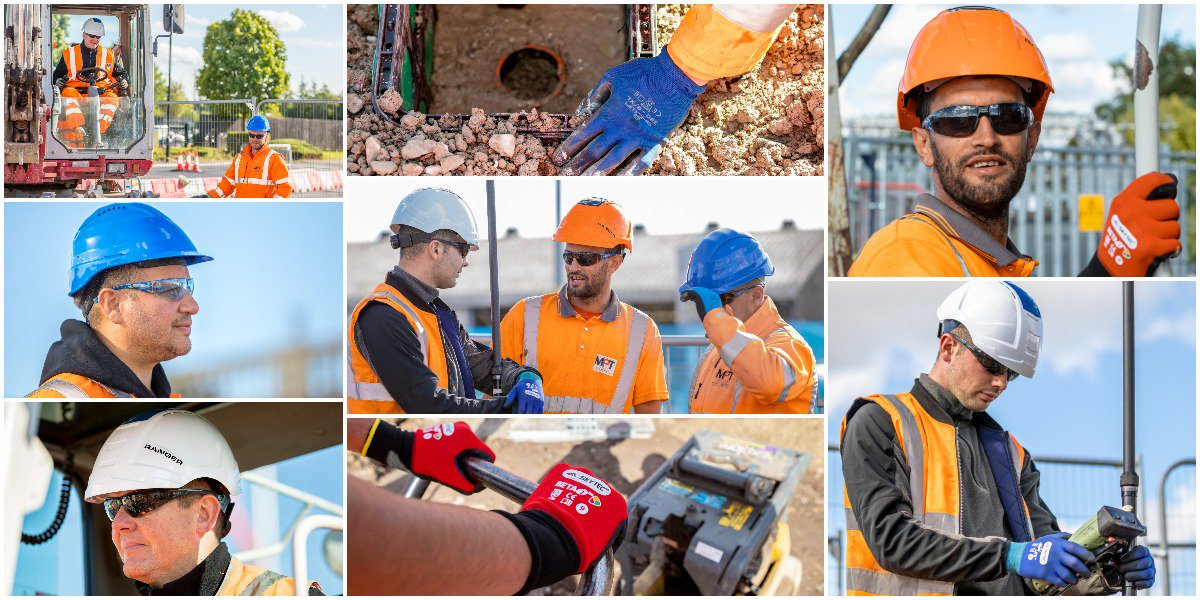Hard Hat: (897, 5, 1060, 107), (85, 406, 242, 493), (936, 283, 1044, 375), (70, 202, 212, 263), (681, 231, 777, 296), (393, 186, 483, 247), (554, 197, 632, 250), (82, 17, 106, 35), (245, 117, 272, 132)
High Viz: (842, 382, 960, 595), (516, 285, 639, 414), (354, 285, 445, 409), (695, 322, 786, 417), (63, 46, 110, 86), (237, 149, 274, 191)
